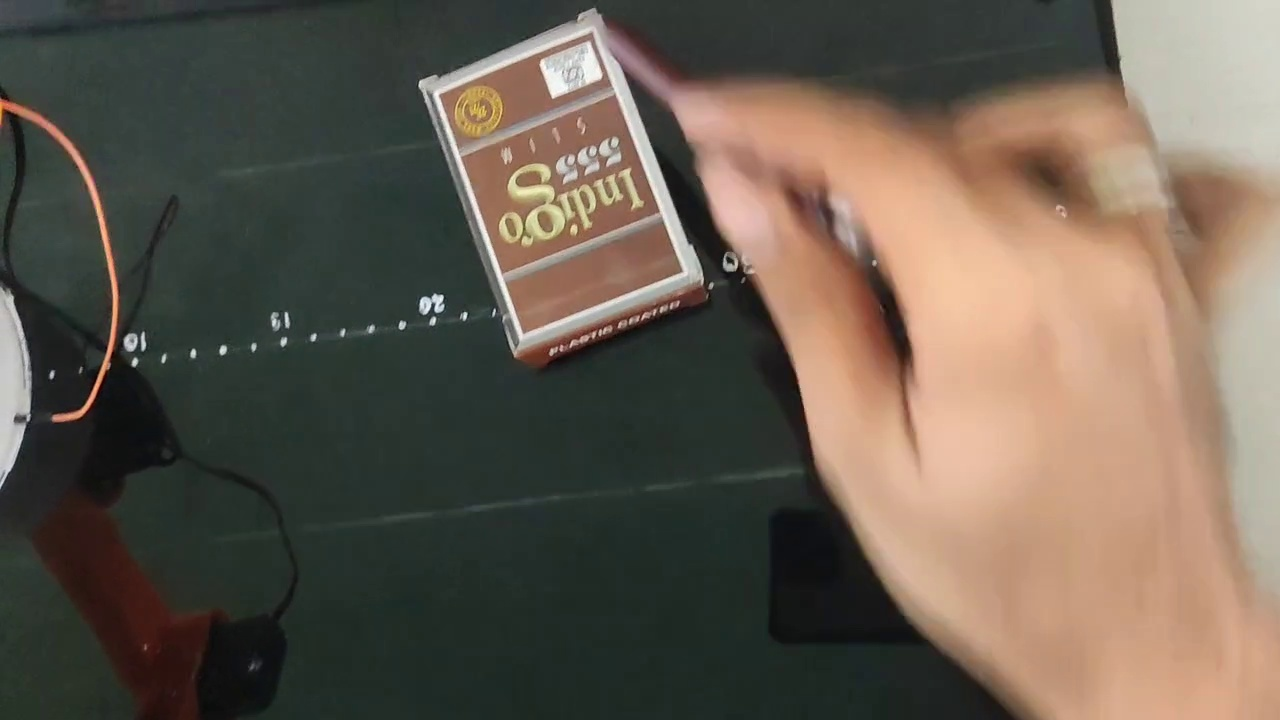BEX: (431, 26, 684, 331)
